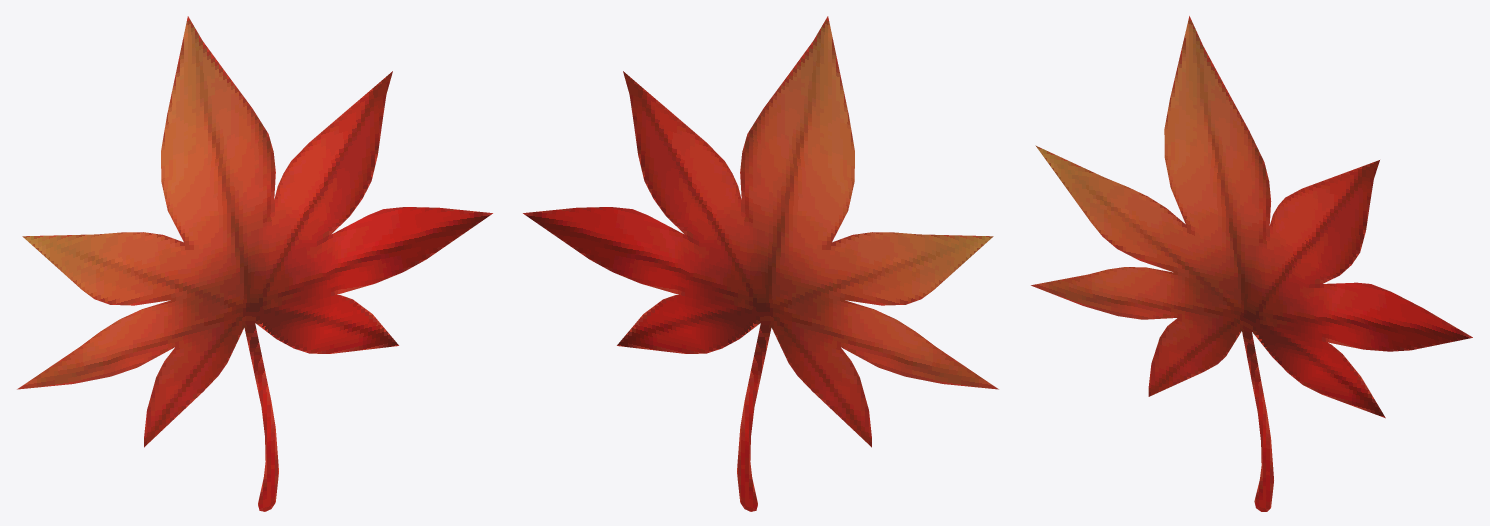
File: ps2_save-icons_hiironokakera.glb
The picture shows the model from 3 angles, left to right: view 1: azimuth 30°, elevation 25°; view 2: azimuth 150°, elevation 25°; view 3: azimuth 330°, elevation 25°; orthographic projection. The views are drawn at different scales.
Parts seen in each view (by area): view 1: SAVE.ICO; view 2: SAVE.ICO; view 3: SAVE.ICO.
Part boxes in pixels (x1,y1,x2,y2): SAVE.ICO: (17, 16, 492, 511); SAVE.ICO: (523, 16, 998, 511); SAVE.ICO: (1031, 16, 1472, 511).
Size of the model in its own units: 3.52 by 3.64 by 0.0298.
Materials: 1 (1 with a texture image).
